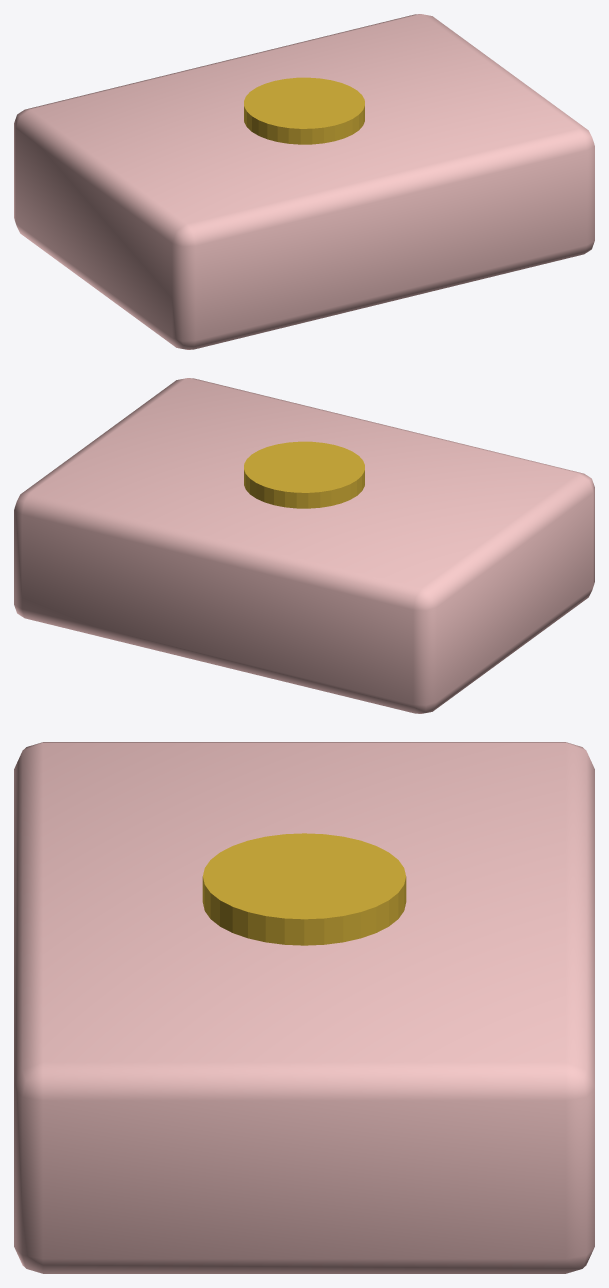
File: press-on-giftbox.glb
3 views of the same model, one above another, from view 1: azimuth 30°, elevation 25°; view 2: azimuth 150°, elevation 25°; view 3: azimuth 270°, elevation 25° (orthographic). The views are drawn at different scales.
Parts seen in each view (by area): view 1: giftbox_Base, giftbox_PetalEmblem; view 2: giftbox_Base, giftbox_PetalEmblem; view 3: giftbox_Base, giftbox_PetalEmblem.
Part boxes in pixels (x1,y1,x2,y2): giftbox_Base: (14,14,594,349); giftbox_PetalEmblem: (244,77,364,144); giftbox_Base: (14,378,594,713); giftbox_PetalEmblem: (244,441,364,508); giftbox_Base: (14,742,594,1273); giftbox_PetalEmblem: (202,833,406,945).
Size of the model in its own units: 0.28 by 0.09 by 0.2.
